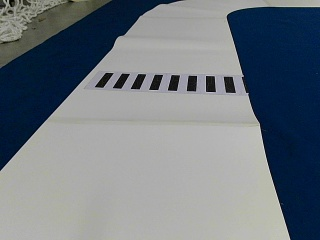crosswalk: (95, 71, 238, 94)
